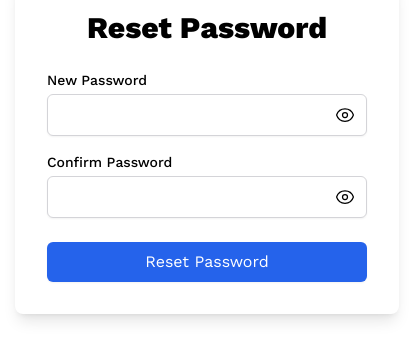
Test: ResetPasswordForm › disables form during submission
Type "newpassword123" into the password field labelled "New Password" at (207, 115), box [47, 94, 367, 136]
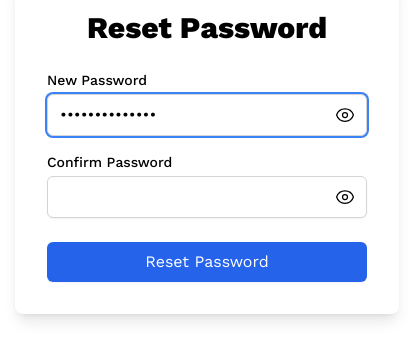
Type "newpassword123" into the password field labelled "Confirm Password" at (207, 197), box [47, 176, 367, 218]
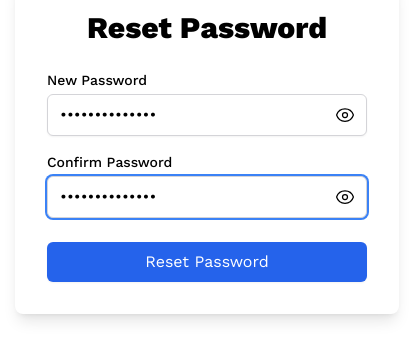
Click the button "Reset Password" at (207, 262), box [47, 242, 367, 282]
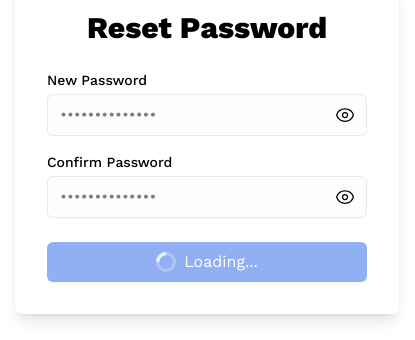
Result: the text "Loading..." is shown at [156, 252, 258, 272]
